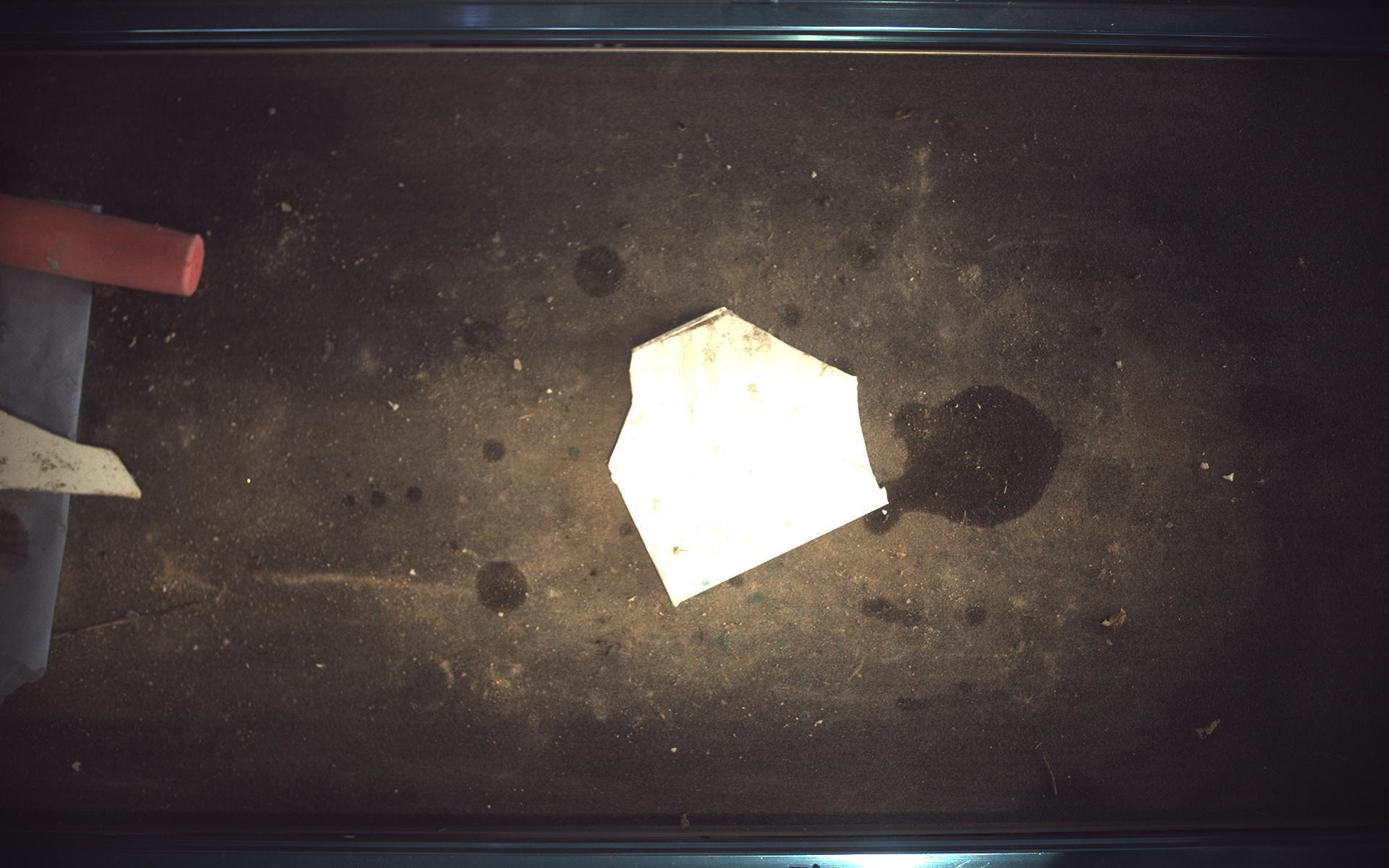plastic: (610, 307, 890, 606), (1, 194, 203, 296), (1, 411, 140, 499)
